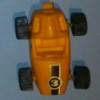naranja: (16, 3, 87, 96)
